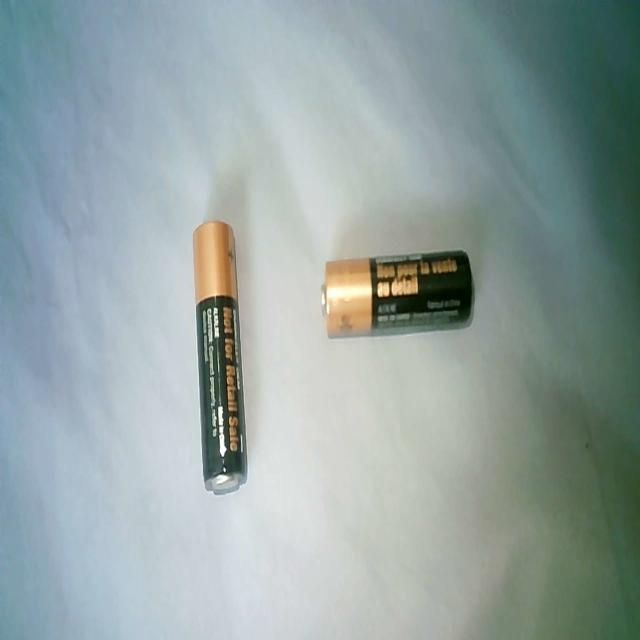AA: (192, 219, 248, 494), (321, 248, 474, 338)
